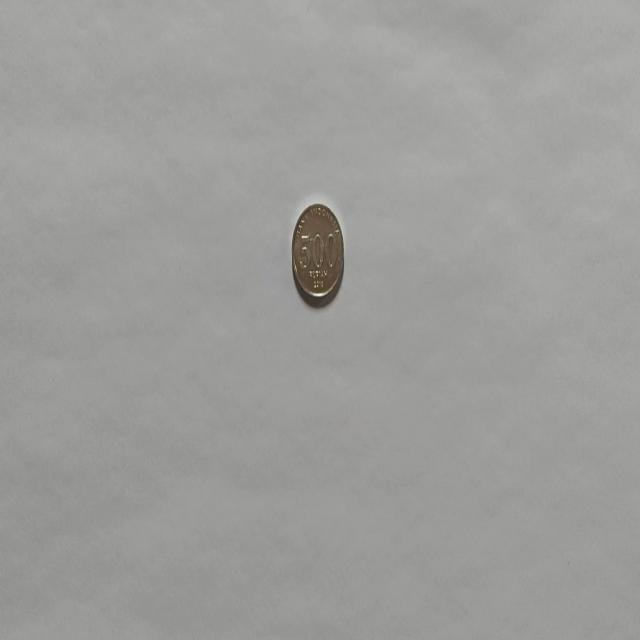lima ratus rupiah: (290, 200, 344, 302)
